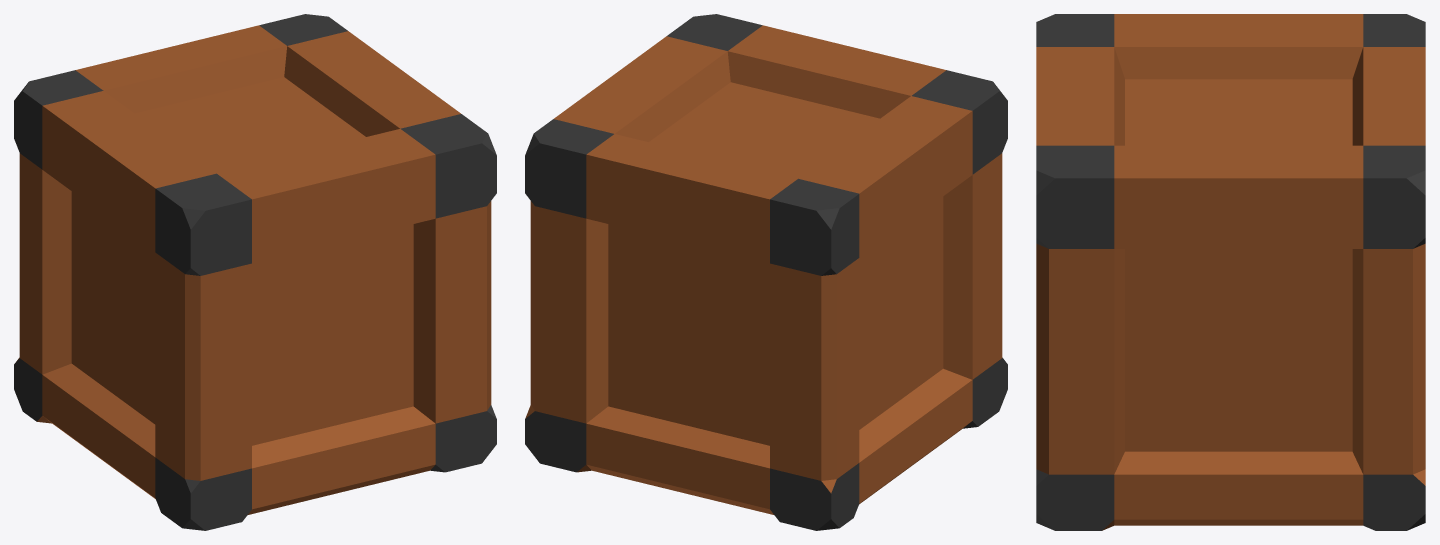
File: Crate.fbx
The picture shows the model from 3 angles, left to right: view 1: azimuth 30°, elevation 25°; view 2: azimuth 150°, elevation 25°; view 3: azimuth 270°, elevation 25°; orthographic projection. The views are drawn at different scales.
Parts seen in each view (by area): view 1: Crate; view 2: Crate; view 3: Crate.
Part boxes in pixels (x1,y1,x2,y2): Crate: (14,14,496,530); Crate: (525,14,1007,530); Crate: (1036,14,1425,530).
Size of the model in its own units: 150 by 150 by 150.
